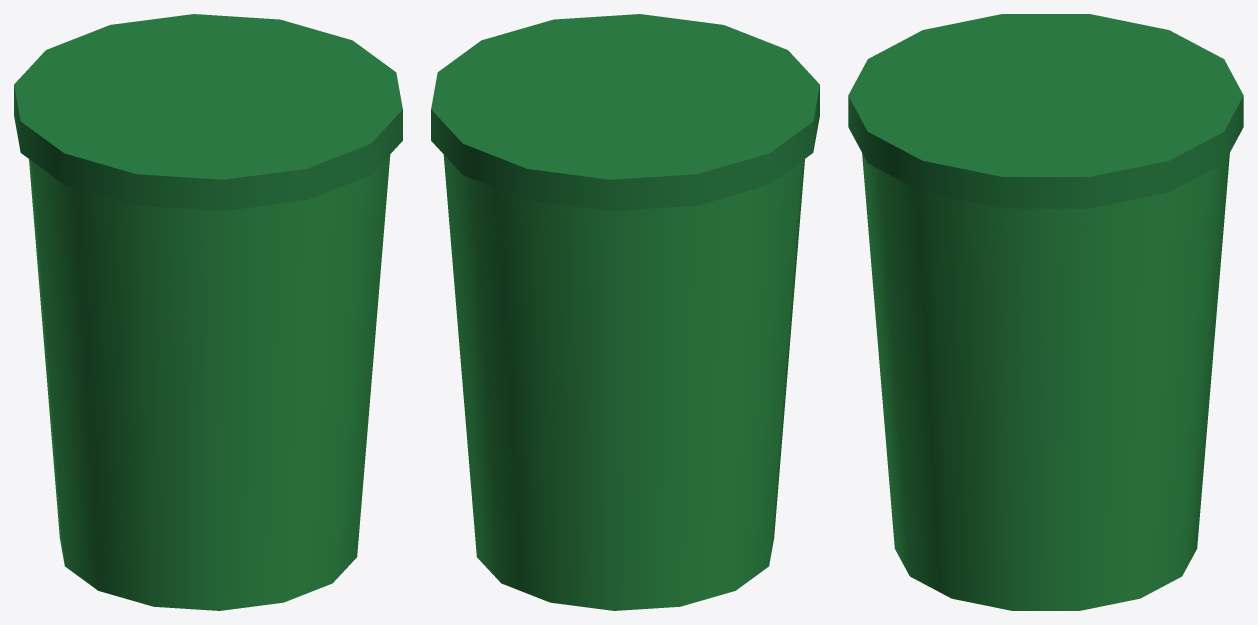
Rendered from bin.obj.
3 views of the same model, side by side, from view 1: azimuth 30°, elevation 25°; view 2: azimuth 150°, elevation 25°; view 3: azimuth 270°, elevation 25° (orthographic).
Visible parts, largest first — view 1: bin_0, bin_1; view 2: bin_0, bin_1; view 3: bin_0, bin_1.
Part boxes in pixels (box(x1,y1,x2,y2)): bin_0: box(29, 154, 390, 610); bin_1: box(14, 14, 402, 211); bin_0: box(443, 154, 804, 610); bin_1: box(431, 14, 819, 211); bin_0: box(862, 153, 1229, 610); bin_1: box(848, 14, 1243, 208).
Bounding box in the file's own units: 0.3314 × 0.43 × 0.34.
